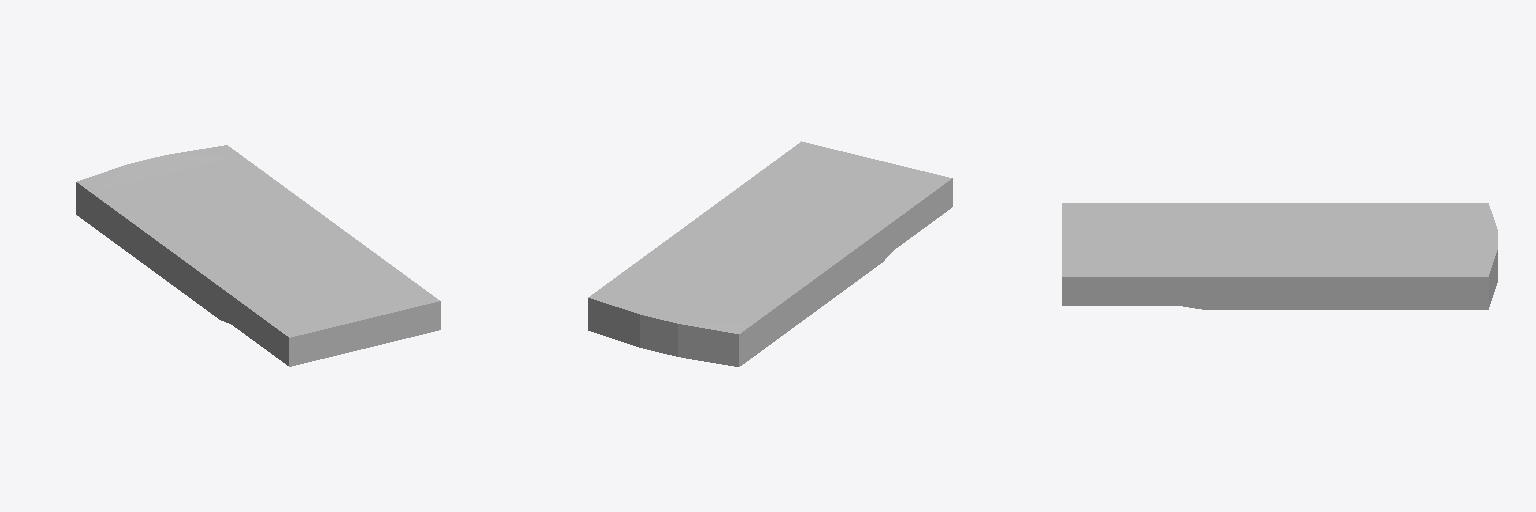
File: Vintage_remote_LOD2.obj
The picture shows the model from 3 angles: view 1: azimuth 30°, elevation 25°; view 2: azimuth 150°, elevation 25°; view 3: azimuth 270°, elevation 25°; orthographic projection.
Parts seen in each view (by area): view 1: Vintage_remote_LOD2_Plane.075; view 2: Vintage_remote_LOD2_Plane.075; view 3: Vintage_remote_LOD2_Plane.075.
Boxes of the visible parts, <box> form: Vintage_remote_LOD2_Plane.075: <box>76,145,440,366</box>; Vintage_remote_LOD2_Plane.075: <box>588,141,952,366</box>; Vintage_remote_LOD2_Plane.075: <box>1062,203,1497,309</box>.
Bounding box in the file's own units: 0.06 × 0.0126 × 0.15.